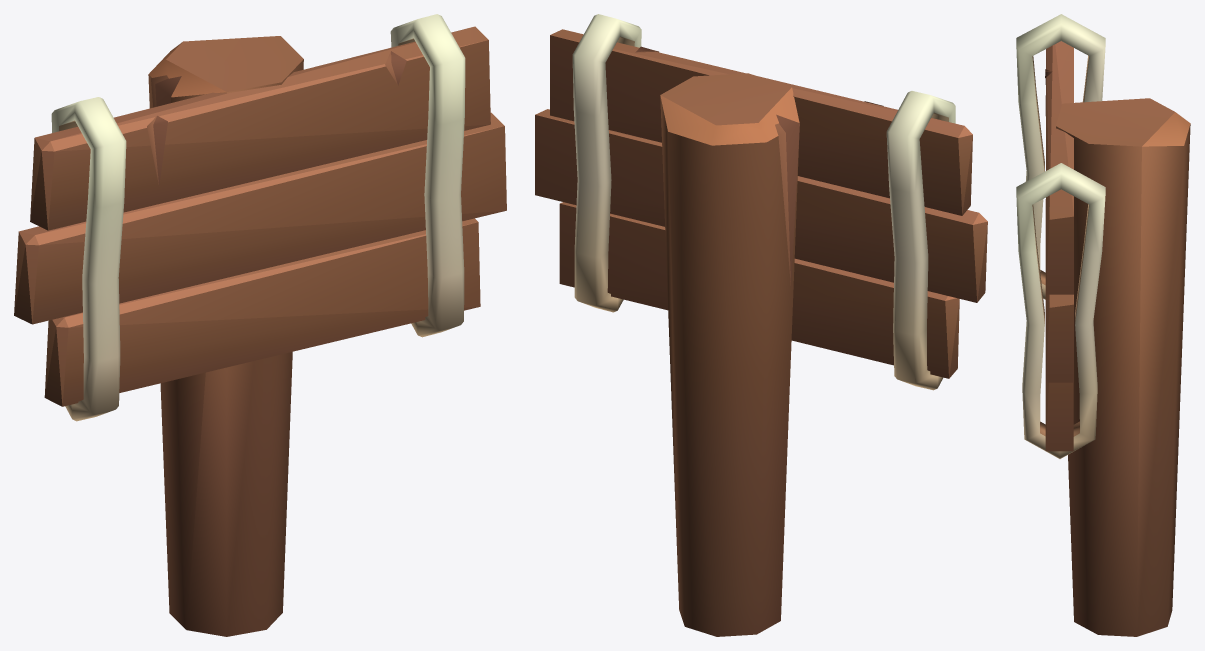
File: billboard.glb
3 views of the same model, side by side, from view 1: azimuth 30°, elevation 25°; view 2: azimuth 150°, elevation 25°; view 3: azimuth 270°, elevation 25° (orthographic). The views are drawn at different scales.
Visible parts, largest first — view 1: billboard; view 2: billboard; view 3: billboard.
Part boxes in pixels (x1,y1,x2,y2): billboard: (14, 14, 506, 636); billboard: (535, 14, 987, 636); billboard: (1016, 14, 1190, 636).
Size of the model in its own units: 1.17 by 1.36 by 0.4096.
Materials: 1 (1 with a texture image).
